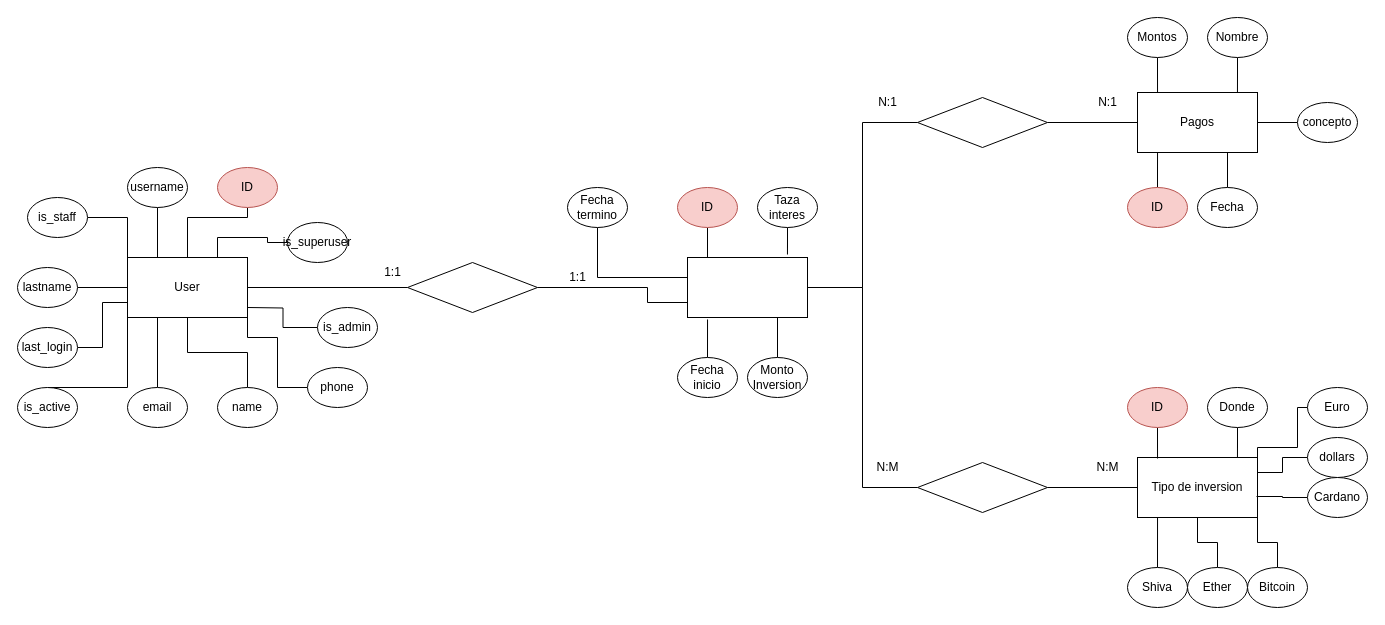
Image size: 1385x625. Some labels were removed from this diagram. Each missing label, with the centre of its shape:
es: point 472,287
Inversionista: point 747,287
Invierte en: point 982,487
Recibe: point 982,122
